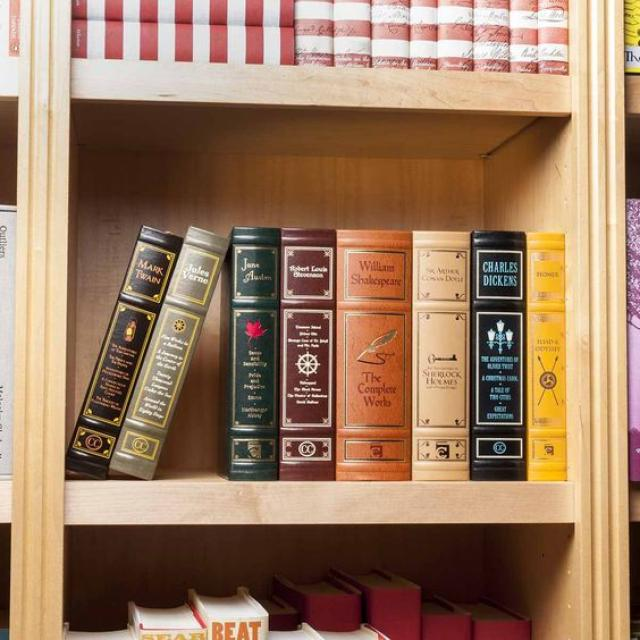book: (108, 225, 231, 480), (64, 225, 183, 478), (337, 232, 411, 479), (413, 231, 469, 479), (281, 227, 334, 480), (473, 232, 525, 481), (234, 225, 278, 479), (528, 232, 568, 481)
